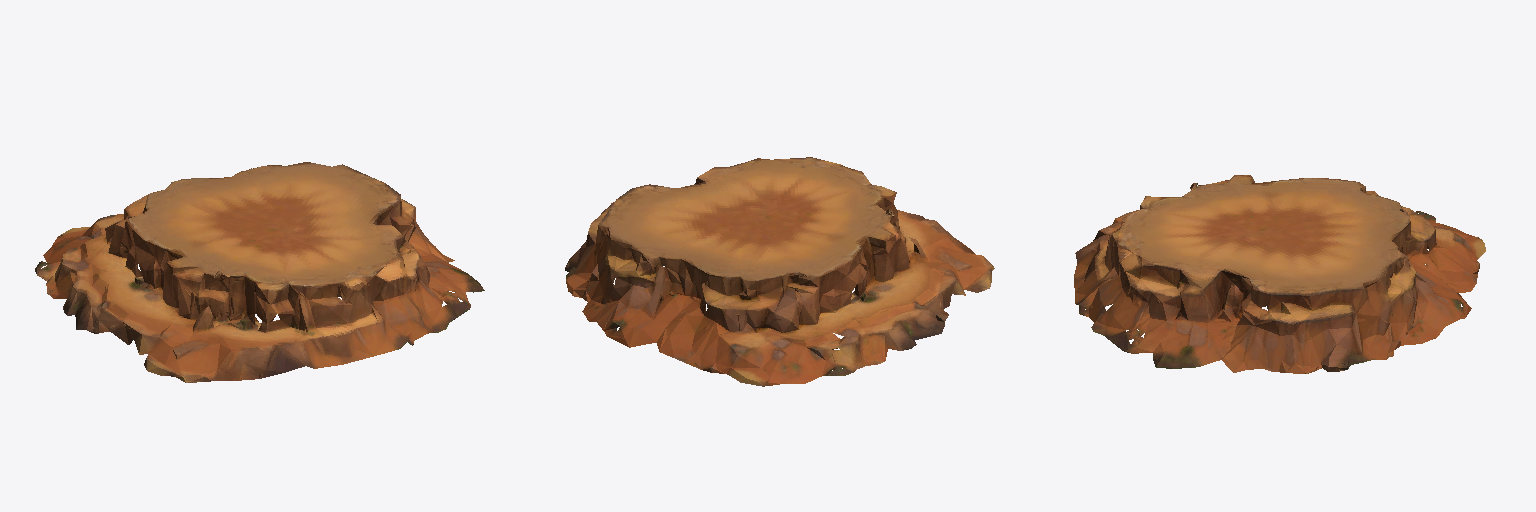
3 renders of one model, left to right at view 1: azimuth 30°, elevation 25°; view 2: azimuth 150°, elevation 25°; view 3: azimuth 270°, elevation 25°, orthographic.
Visible parts, largest first — view 1: A_large_flat_topped__[number redacted]_texture; view 2: A_large_flat_topped__[number redacted]_texture; view 3: A_large_flat_topped__[number redacted]_texture.
Part boxes in pixels (x1,y1,x2,y2): A_large_flat_topped__[number redacted]_texture: (35, 162, 484, 382); A_large_flat_topped__[number redacted]_texture: (565, 157, 994, 386); A_large_flat_topped__[number redacted]_texture: (1074, 175, 1485, 373).
Size of the model in its own units: 1.96 by 0.3729 by 1.99.
Materials: 1 (1 with a texture image).